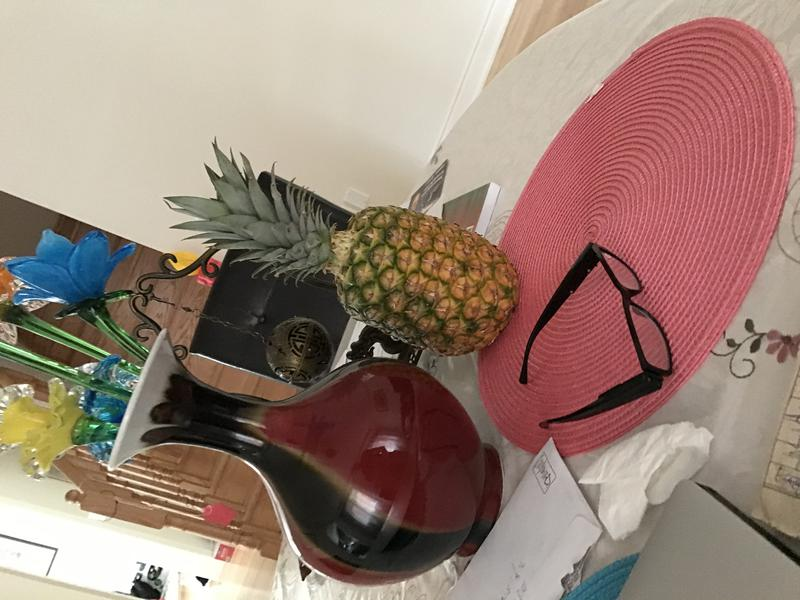pineapple: (160, 135, 529, 362)
